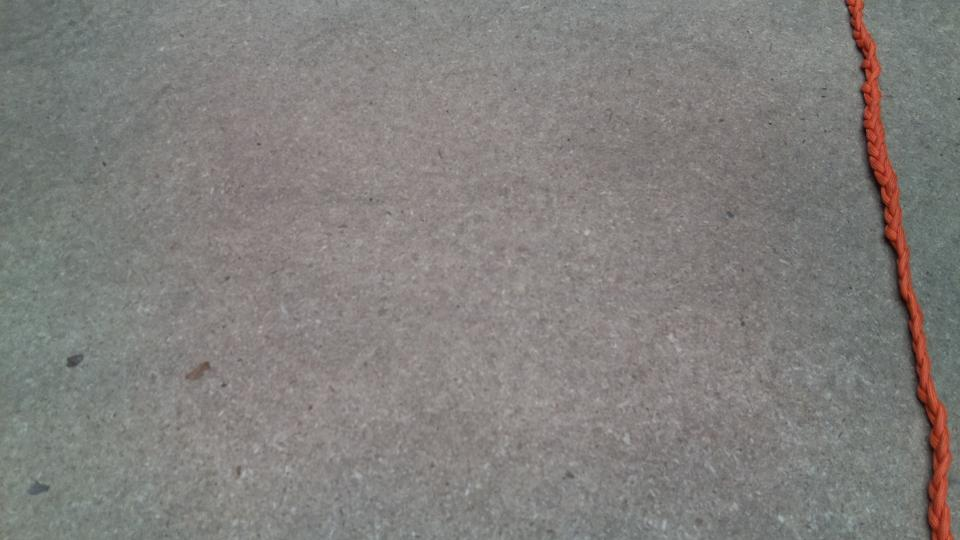rope: (837, 1, 957, 540)
